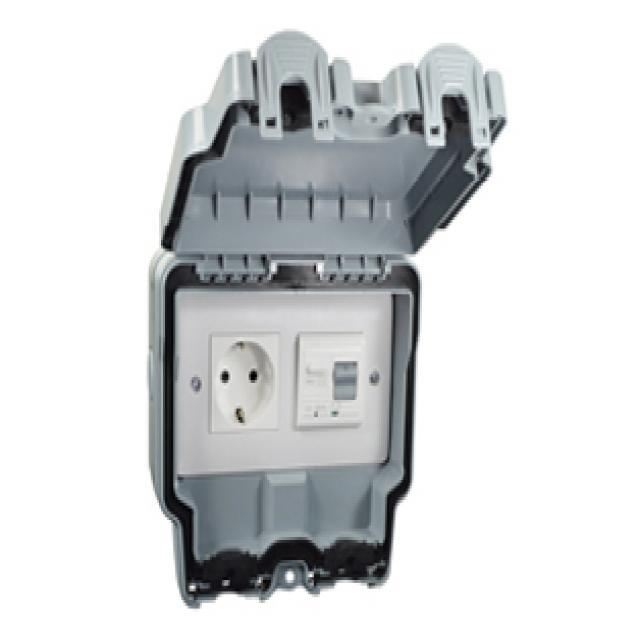typeb: (170, 284, 290, 482)
